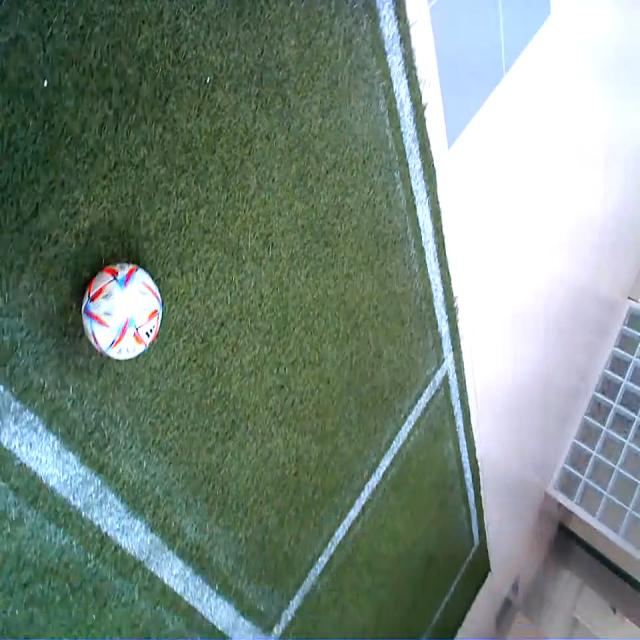ball: (82, 260, 162, 361)
